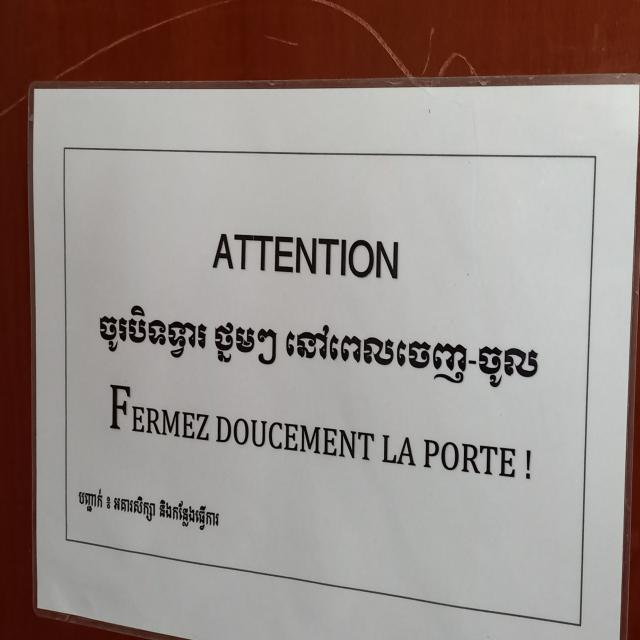Yolov11kh: (94, 298, 544, 394), (72, 478, 225, 543)
